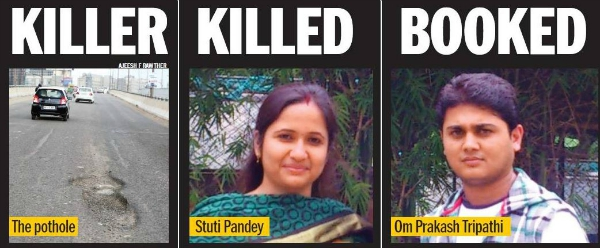pothole: (70, 158, 141, 233)
